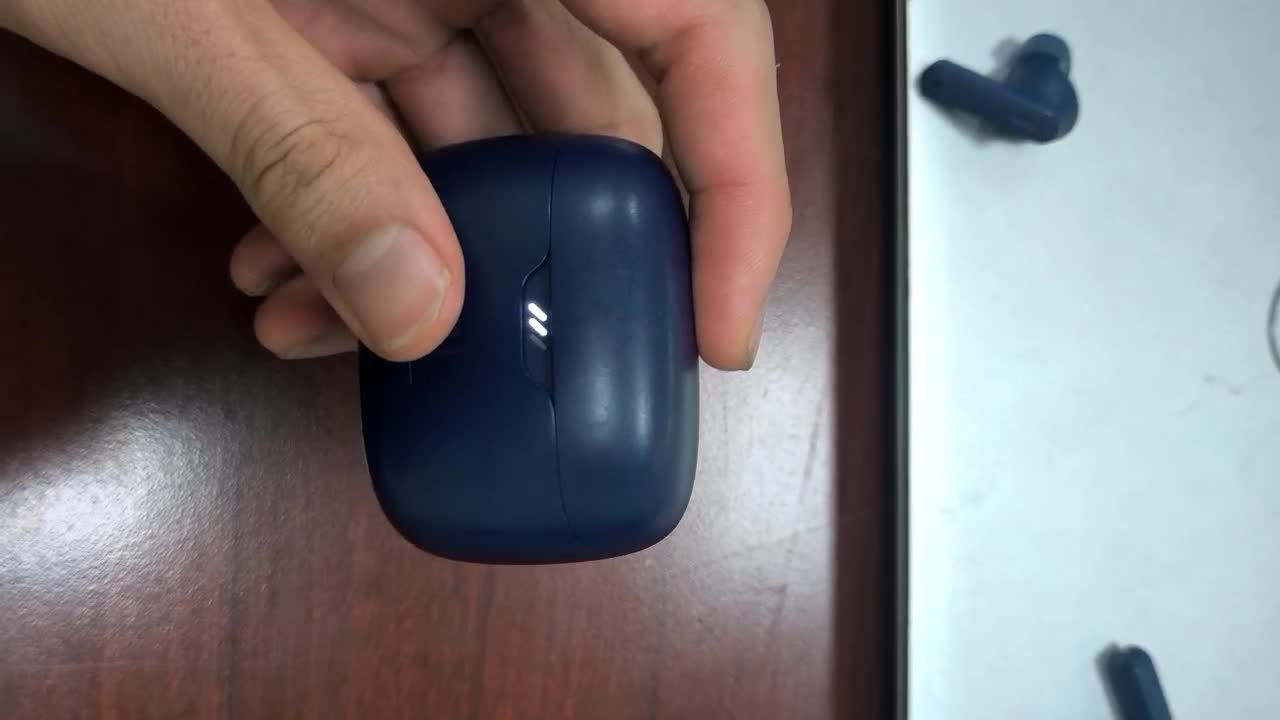Case: (359, 139, 701, 573)
Earbud: (920, 33, 1078, 141)
